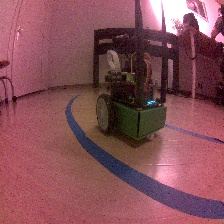rob: (95, 48, 167, 141)
